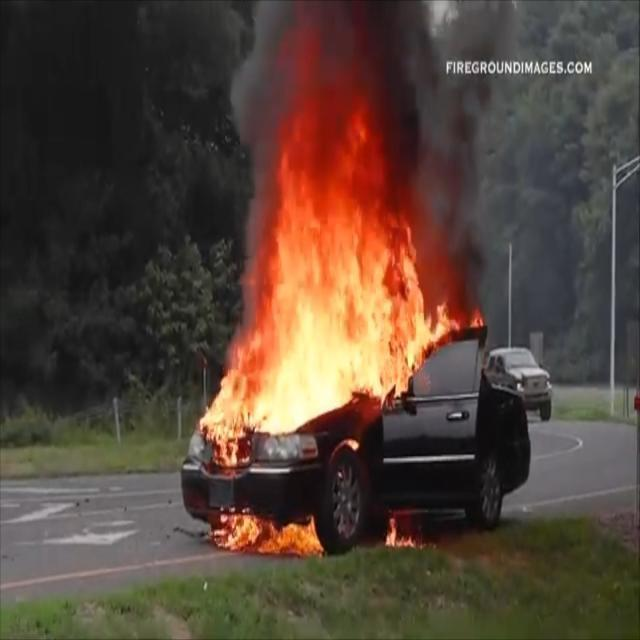fire: (194, 2, 466, 461), (204, 486, 424, 558)
